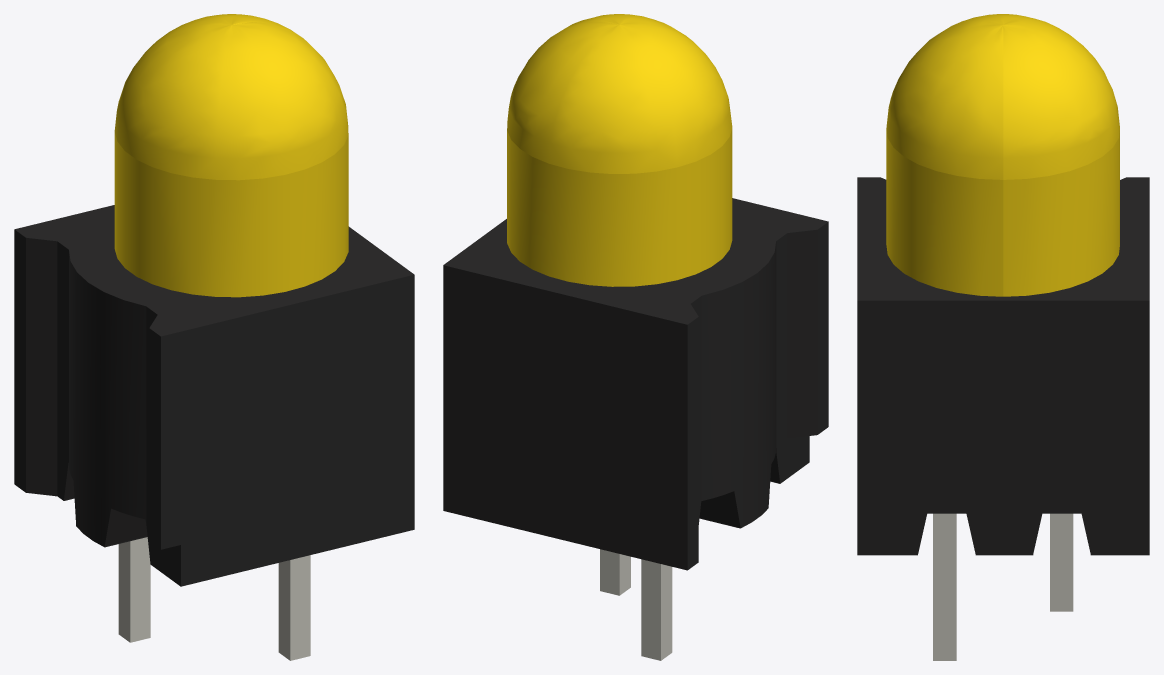
Rendered from kc-led_vcclite_5381h7_6.35x6.35mm.glb.
3 renders of one model, left to right at view 1: azimuth 30°, elevation 25°; view 2: azimuth 150°, elevation 25°; view 3: azimuth 270°, elevation 25°, orthographic. The views are drawn at different scales.
Parts seen in each view (by area): view 1: 0_0_0_0, 0.9166666666666666_0.6666666666666666_0_0, 0.6666666666666666_0.6666666666666666_0.5833333333333334_0.8; view 2: 0_0_0_0, 0.9166666666666666_0.6666666666666666_0_0, 0.6666666666666666_0.6666666666666666_0.5833333333333334_0.8; view 3: 0_0_0_0, 0.9166666666666666_0.6666666666666666_0_0, 0.6666666666666666_0.6666666666666666_0.5833333333333334_0.8.
Part boxes in pixels (left/top/right/bottom): 0_0_0_0: left=14, top=205, right=414, bottom=586; 0.9166666666666666_0.6666666666666666_0_0: left=114, top=14, right=348, bottom=297; 0.6666666666666666_0.6666666666666666_0.5833333333333334_0.8: left=118, top=537, right=310, bottom=660; 0_0_0_0: left=443, top=198, right=828, bottom=570; 0.9166666666666666_0.6666666666666666_0_0: left=507, top=14, right=732, bottom=286; 0.6666666666666666_0.6666666666666666_0.5833333333333334_0.8: left=600, top=549, right=672, bottom=660; 0_0_0_0: left=857, top=177, right=1149, bottom=555; 0.9166666666666666_0.6666666666666666_0_0: left=886, top=14, right=1119, bottom=296; 0.6666666666666666_0.6666666666666666_0.5833333333333334_0.8: left=933, top=513, right=1073, bottom=660.
Bounding box in the file's own units: 0.635 × 1.47 × 0.635.
